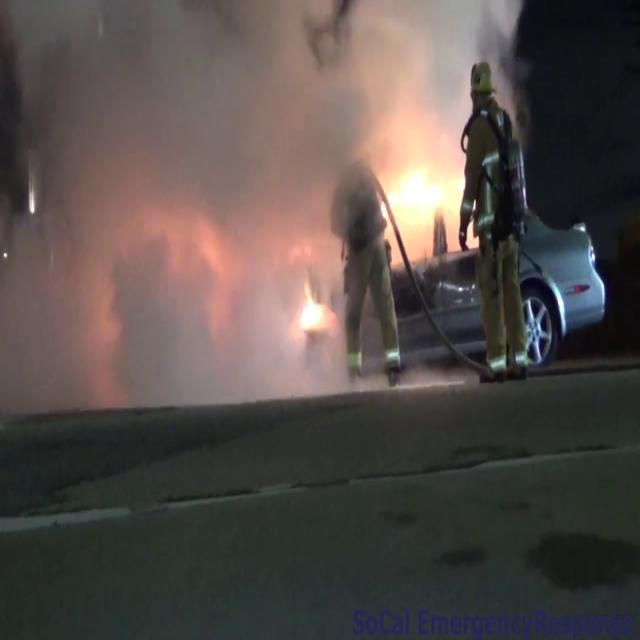Fire: (376, 141, 462, 243), (294, 276, 335, 338)
Smoke: (0, 0, 361, 398)
